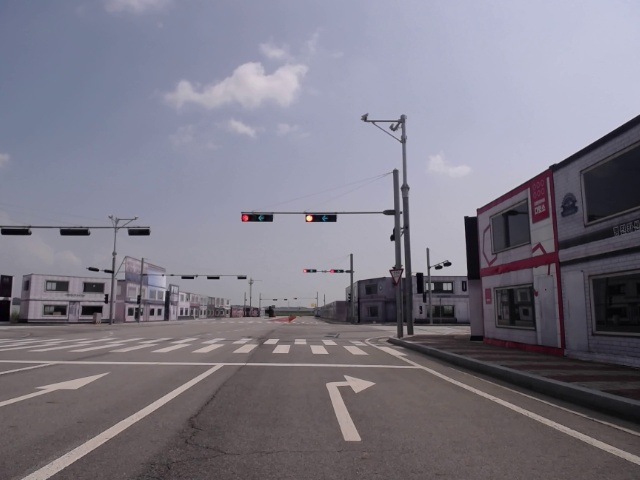left_green_4: (242, 213, 274, 222), (306, 214, 337, 221), (332, 269, 343, 273), (304, 269, 318, 272)
